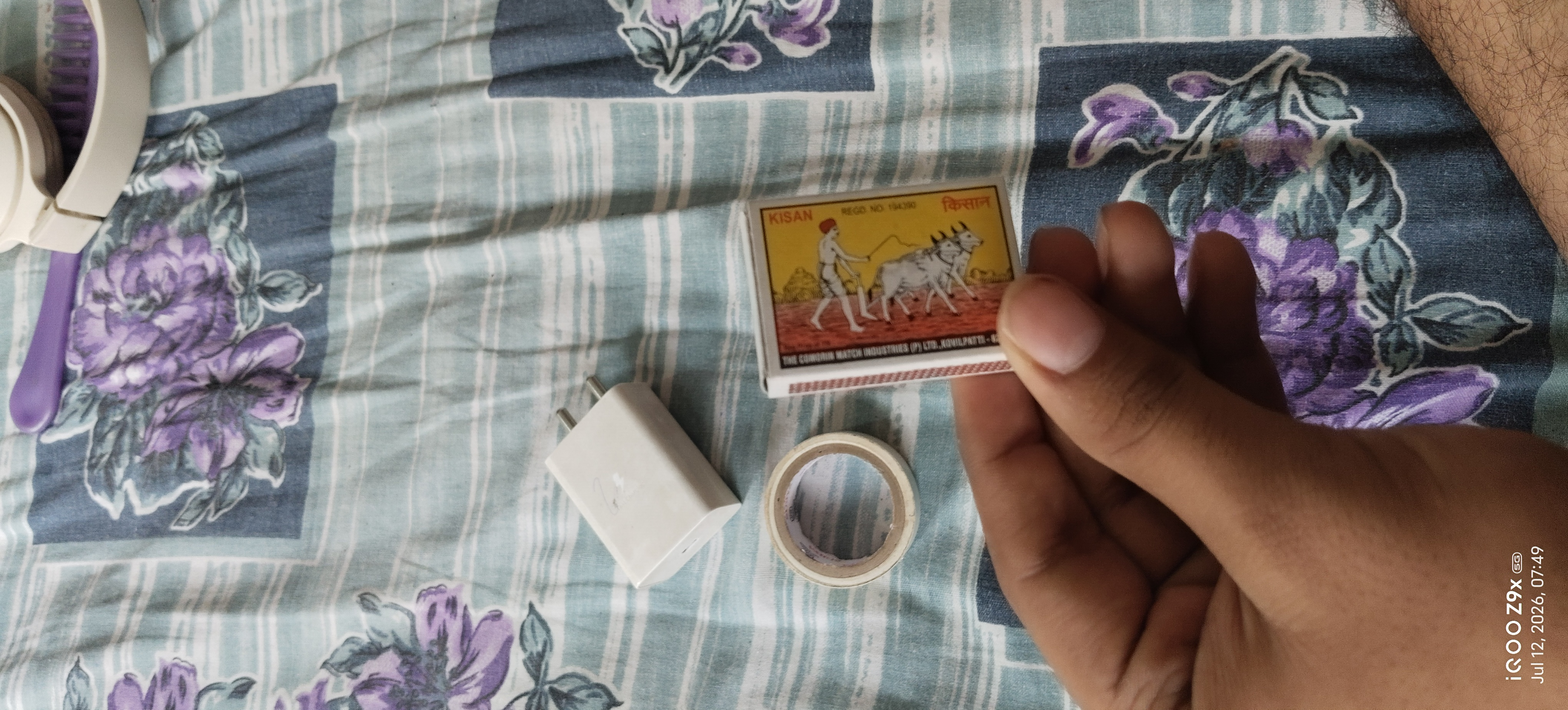charger: (532, 371, 750, 600)
matchbox: (718, 167, 1066, 405)
tape_roll: (759, 429, 934, 602)
